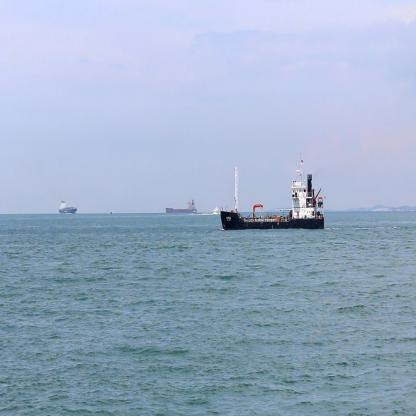Container Ship: (218, 152, 326, 233), (165, 195, 199, 217), (58, 196, 78, 214)
